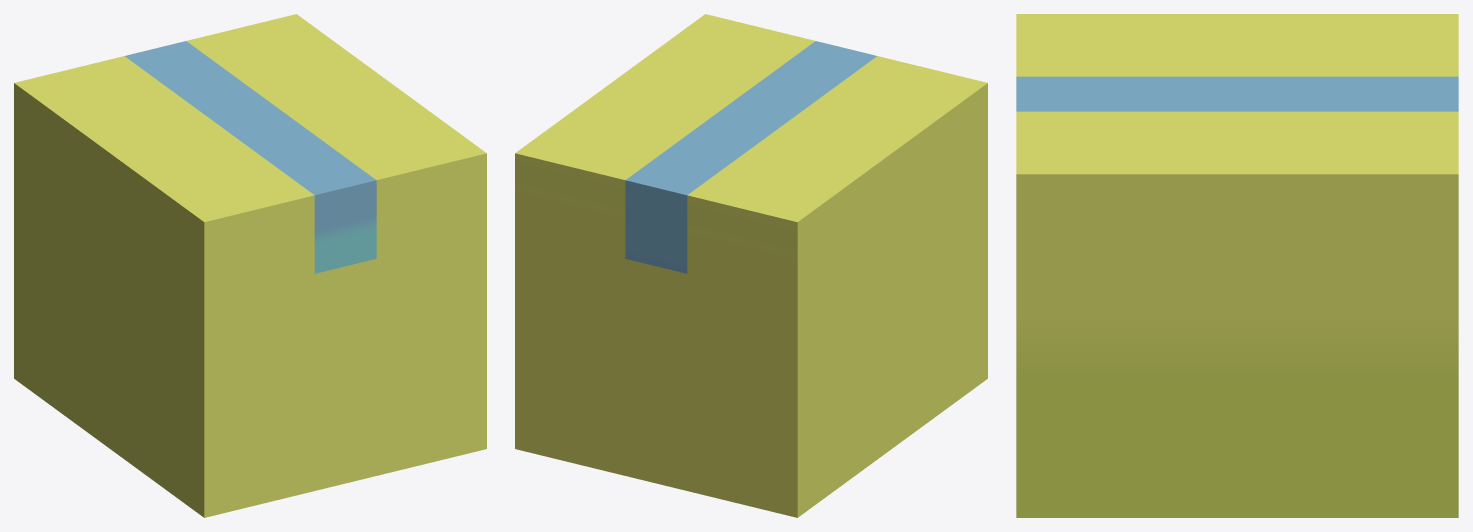
File: Blue_Box.fbx
The picture shows the model from 3 angles, left to right: view 1: azimuth 30°, elevation 25°; view 2: azimuth 150°, elevation 25°; view 3: azimuth 270°, elevation 25°; orthographic projection. The views are drawn at different scales.
Parts seen in each view (by area): view 1: Blue_Box; view 2: Blue_Box; view 3: Blue_Box.
Boxes of the visible parts, x1,y1,x2,y2 form: Blue_Box: (14,14,486,517); Blue_Box: (515,14,987,517); Blue_Box: (1016,14,1458,517).
Size of the model in its own units: 30 by 30 by 35.
